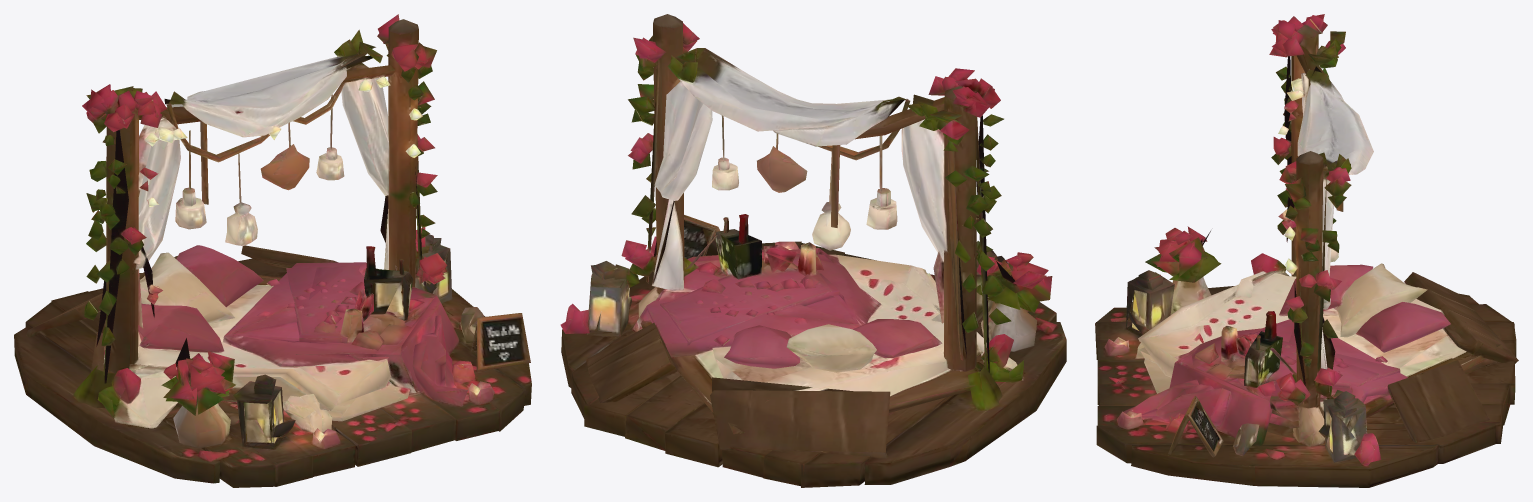
The model's file is svidanie.glb.
The picture shows the model from 3 angles, left to right: view 1: azimuth 30°, elevation 25°; view 2: azimuth 150°, elevation 25°; view 3: azimuth 270°, elevation 25°; orthographic projection. The views are drawn at different scales.
Visible parts, largest first — view 1: mesh_node; view 2: mesh_node; view 3: mesh_node.
Boxes of the visible parts, box(x1,y1,x2,y2) form: mesh_node: box(14, 14, 531, 487); mesh_node: box(560, 14, 1066, 487); mesh_node: box(1095, 14, 1518, 487).
Bounding box in the file's own units: 1 × 0.7676 × 0.9648.
Materials: 1 (1 with a texture image).
